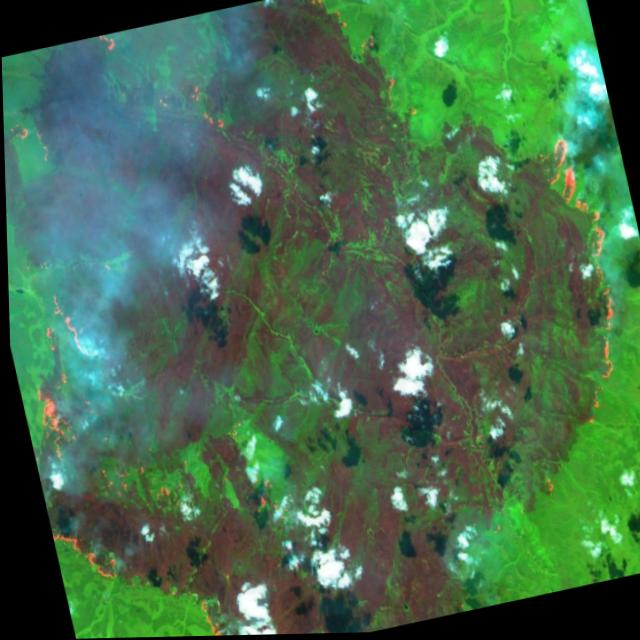fire: (519, 120, 640, 435), (303, 0, 448, 160), (11, 293, 108, 462), (45, 507, 129, 619), (190, 80, 239, 151), (186, 588, 242, 637), (2, 103, 35, 158), (86, 32, 121, 64), (149, 85, 176, 118)
